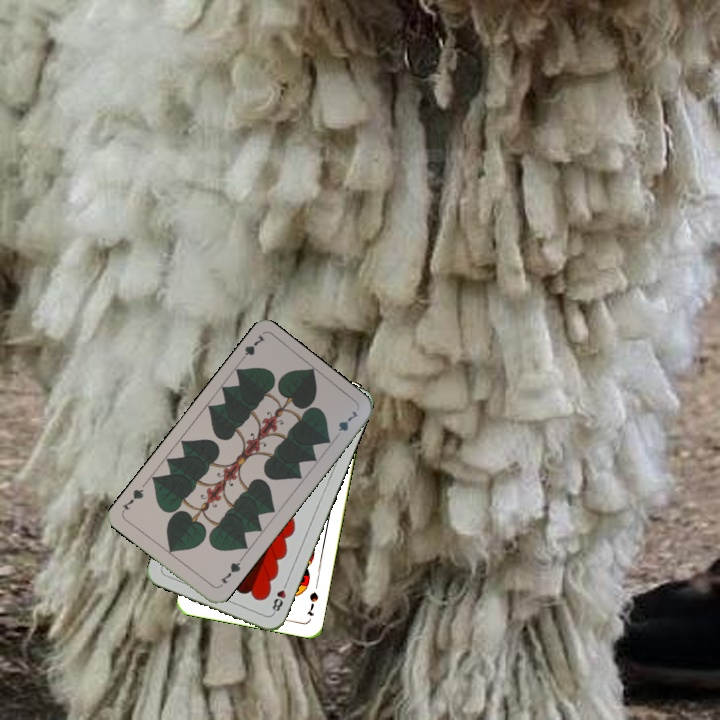G7: (234, 331, 268, 366), (216, 555, 244, 586)
H8: (268, 577, 290, 616)
S7: (302, 588, 321, 618)
